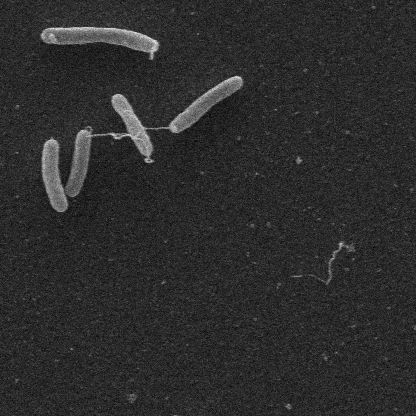cell: (170, 74, 245, 132), (39, 25, 159, 55), (110, 92, 154, 157), (41, 135, 68, 212), (66, 126, 92, 194)
nanowire: (87, 129, 136, 141), (138, 123, 175, 133)
